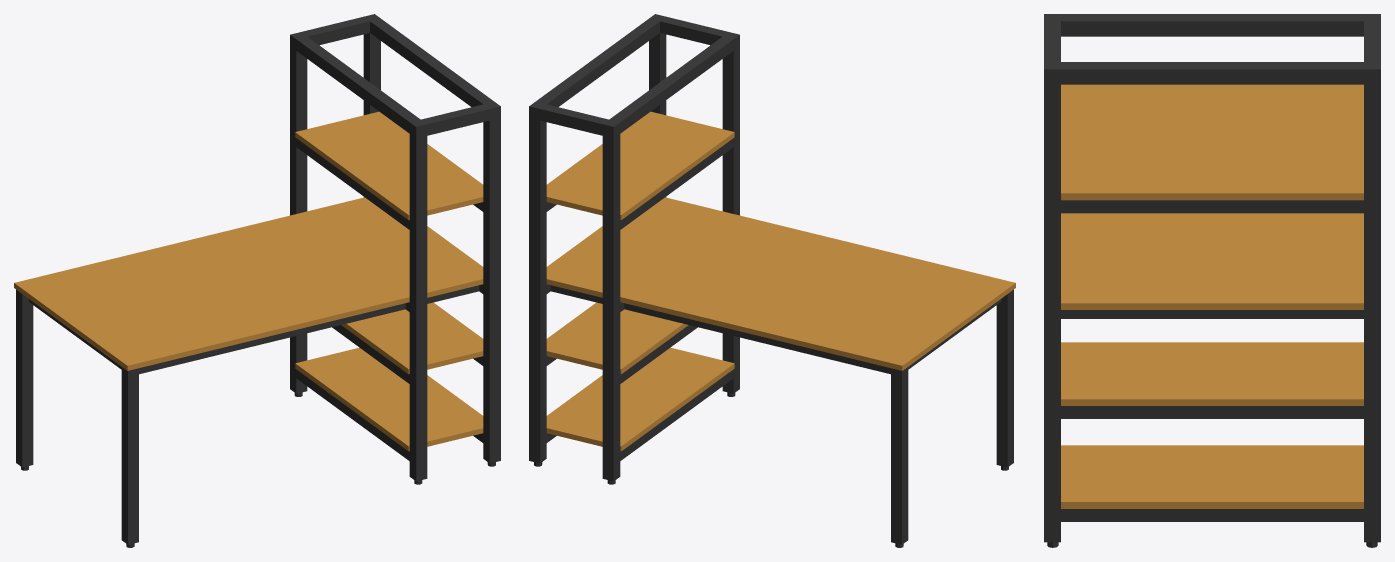
File: legDesk150Bookcase.fbx
3 views of the same model, side by side, from view 1: azimuth 30°, elevation 25°; view 2: azimuth 150°, elevation 25°; view 3: azimuth 270°, elevation 25° (orthographic). The views are drawn at different scales.
Parts seen in each view (by area): view 1: legDesk150Bookcase; view 2: legDesk150Bookcase; view 3: legDesk150Bookcase.
Boxes of the visible parts, left/top/right/bottom form: legDesk150Bookcase: left=14, top=14, right=500, bottom=547; legDesk150Bookcase: left=529, top=14, right=1015, bottom=547; legDesk150Bookcase: left=1044, top=14, right=1380, bottom=547.
Size of the model in its own units: 150 by 140 by 89.
